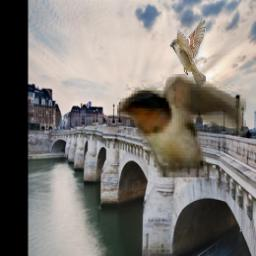Sparrow: (170, 17, 207, 90)
Swallow: (118, 74, 247, 177)
